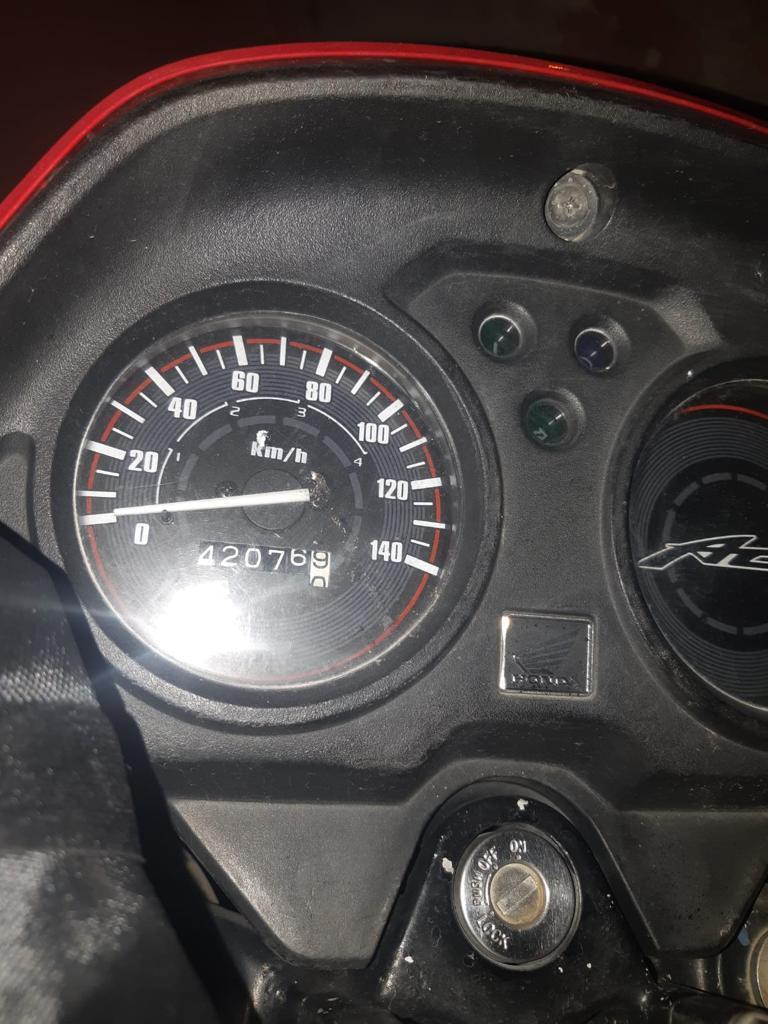0: (244, 547, 261, 568)
2: (220, 545, 239, 568)
4: (199, 544, 216, 567)
6: (290, 545, 306, 566)
7: (267, 549, 285, 571)
9: (312, 550, 328, 569)
odometer: (194, 537, 333, 589)
